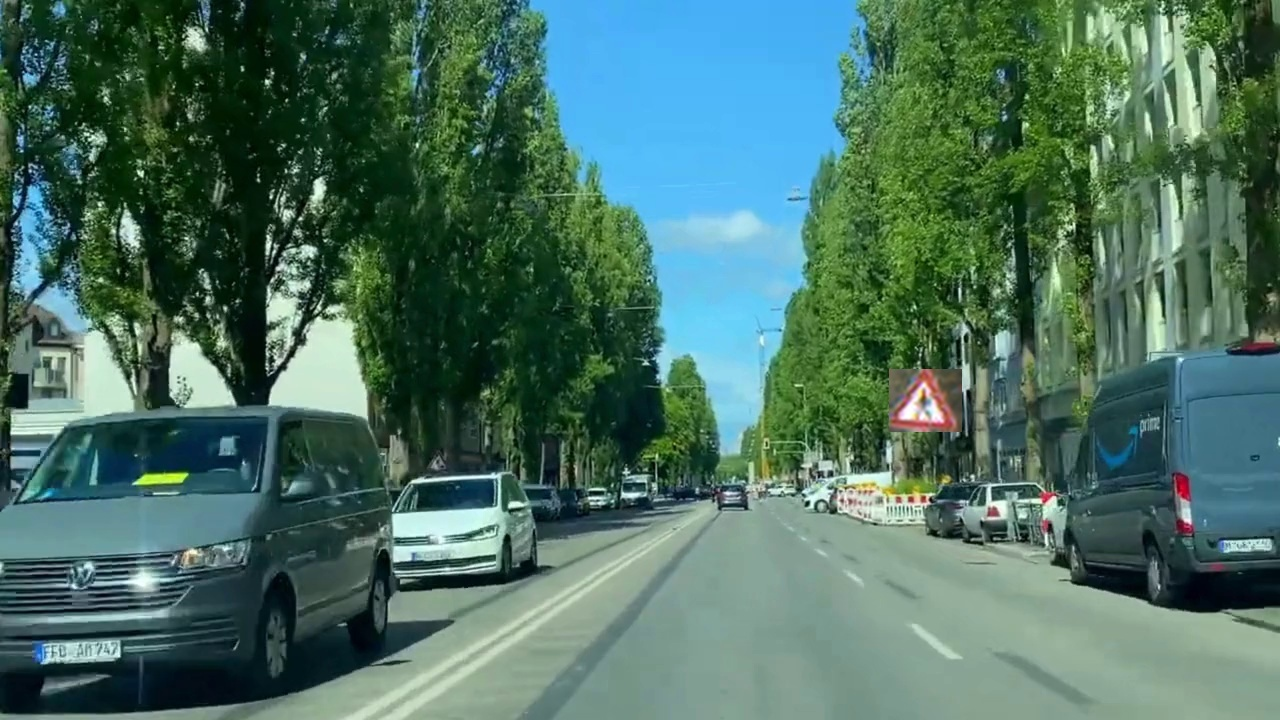Pedestrians: (889, 369, 962, 432)
